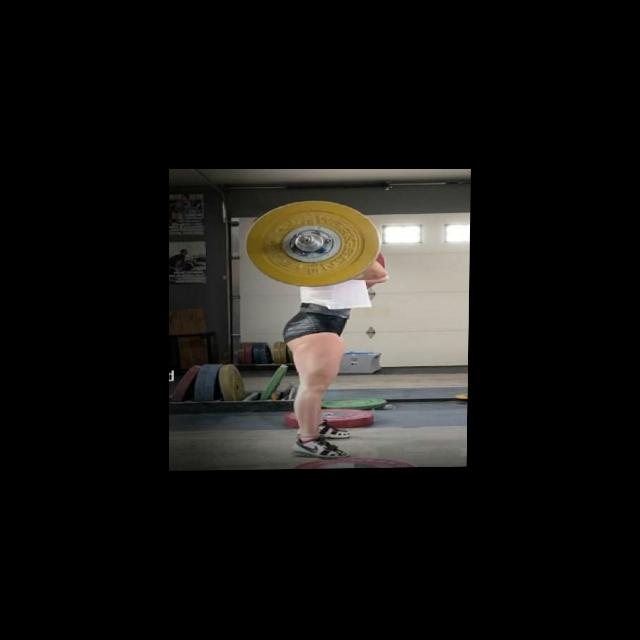barbell: (244, 198, 384, 290)
